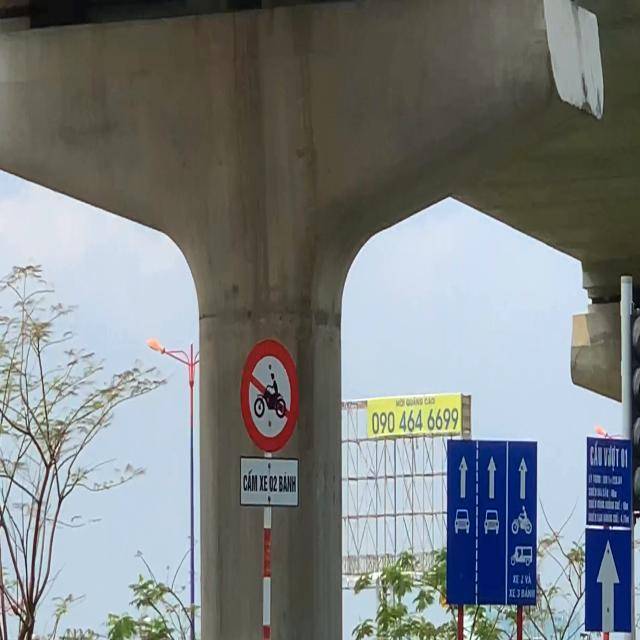Cam con lai: (239, 336, 300, 454)
Chi dan: (584, 526, 633, 635)
